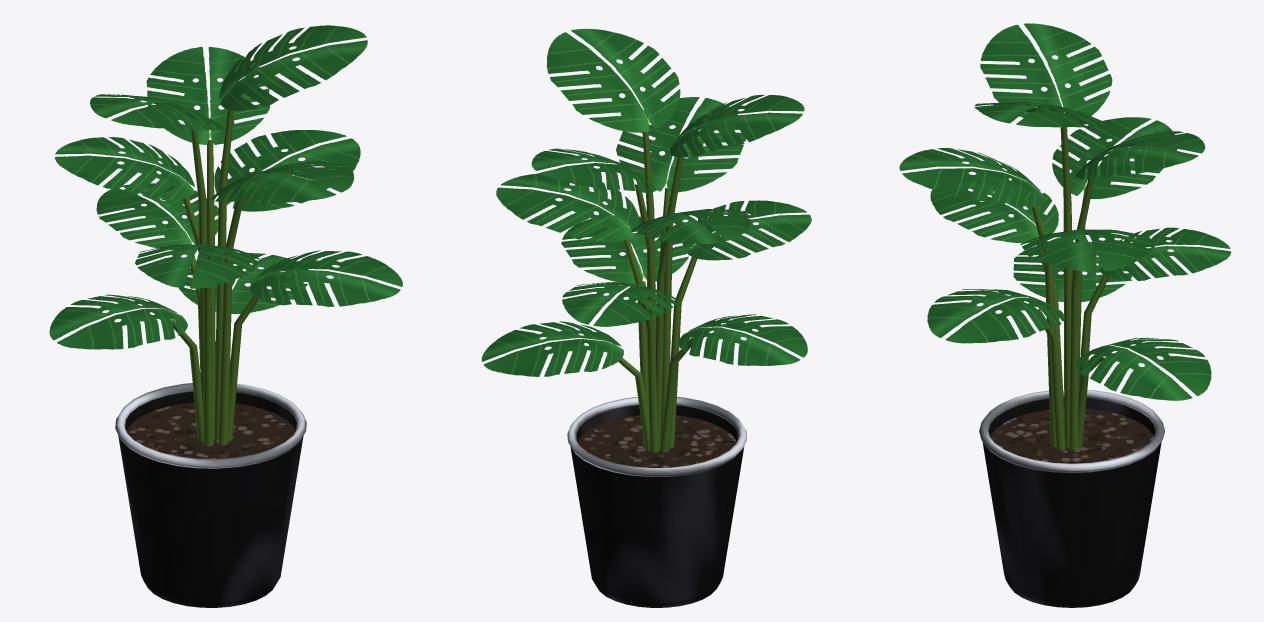
The model's file is prop_plant.glb.
3 renders of one model, left to right at view 1: azimuth 30°, elevation 25°; view 2: azimuth 150°, elevation 25°; view 3: azimuth 270°, elevation 25°, orthographic. The views are drawn at different scales.
Parts seen in each view (by area): view 1: prop; view 2: prop; view 3: prop.
Boxes of the visible parts, x1=… form: prop: x1=49, y1=25, x2=402, y2=607; prop: x1=481, y1=28, x2=811, y2=607; prop: x1=899, y1=23, x2=1231, y2=607.
Size of the model in its own units: 0.7202 by 1.07 by 0.7145.
6 materials, 4 textured.
